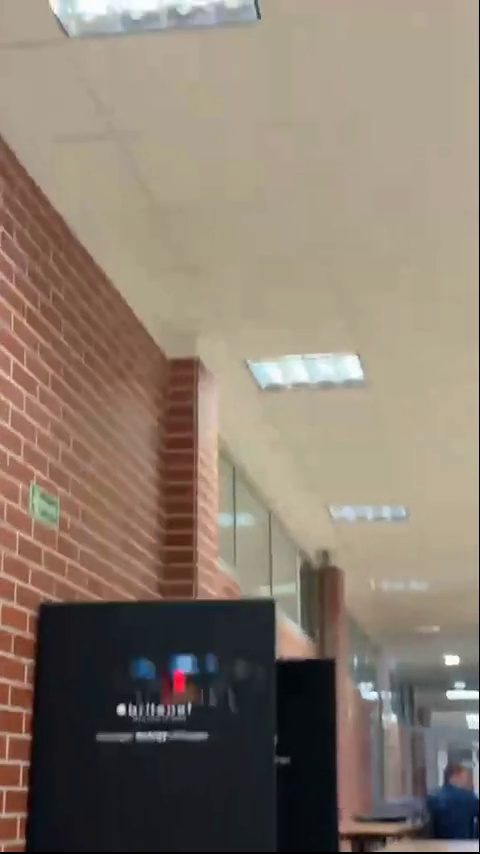drone: (131, 654, 258, 715)
no vest: (423, 765, 480, 839)
